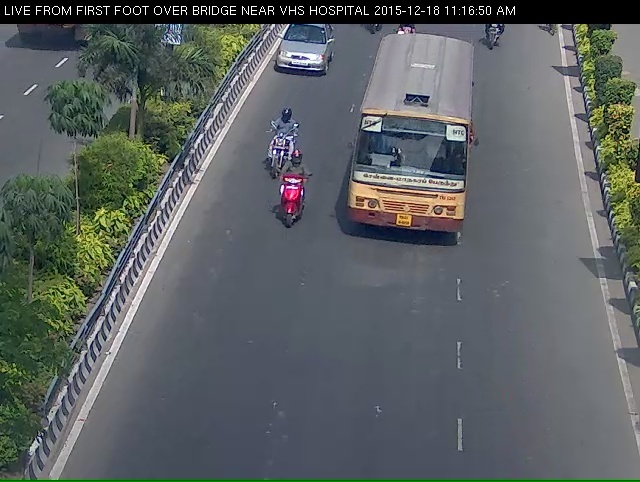Bus: (349, 39, 470, 251)
Car: (270, 24, 323, 88)
Person: (252, 118, 284, 185), (276, 167, 301, 243)
